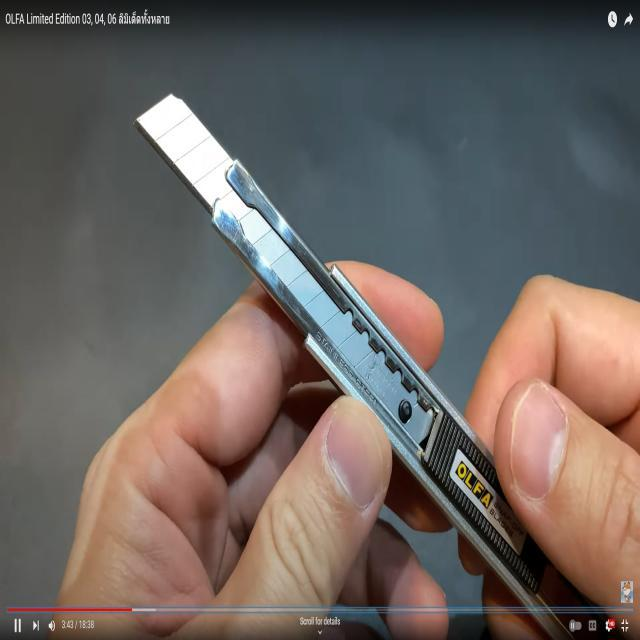cutter: (120, 46, 640, 574)
